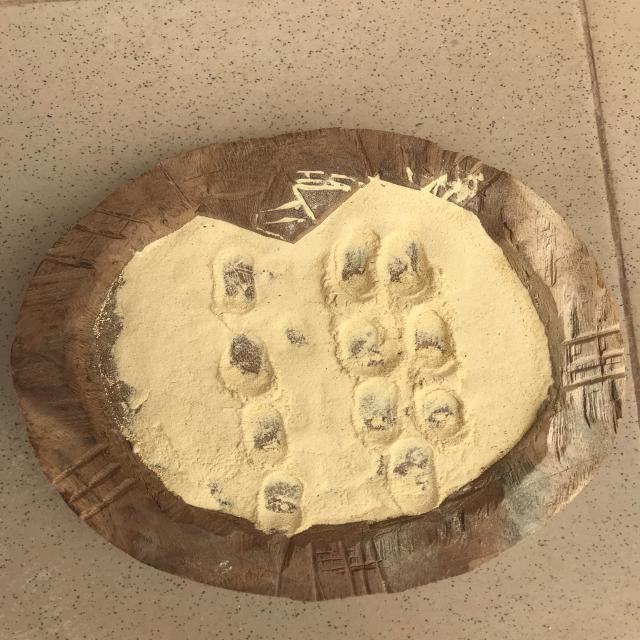double: (322, 307, 468, 378), (322, 226, 448, 304), (345, 380, 477, 444)
single: (216, 328, 288, 400), (386, 436, 443, 515), (205, 244, 263, 317), (237, 400, 296, 470), (255, 466, 312, 531)
